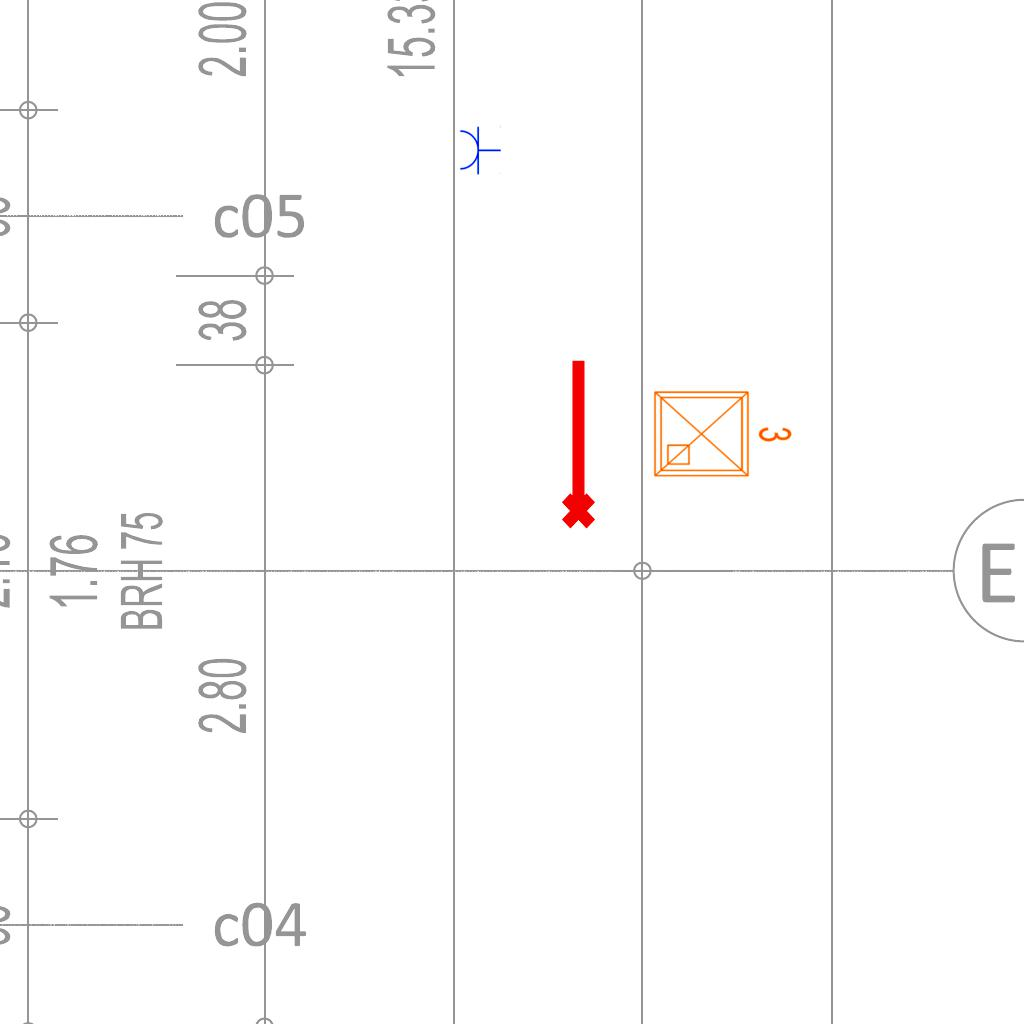ASR_Ansaugoeffnung: (553, 355, 599, 531)
Einbaudownlights_LED_Konferenzraeume: (647, 380, 797, 484)
Schukosteckdose_einfach: (458, 125, 501, 175)
